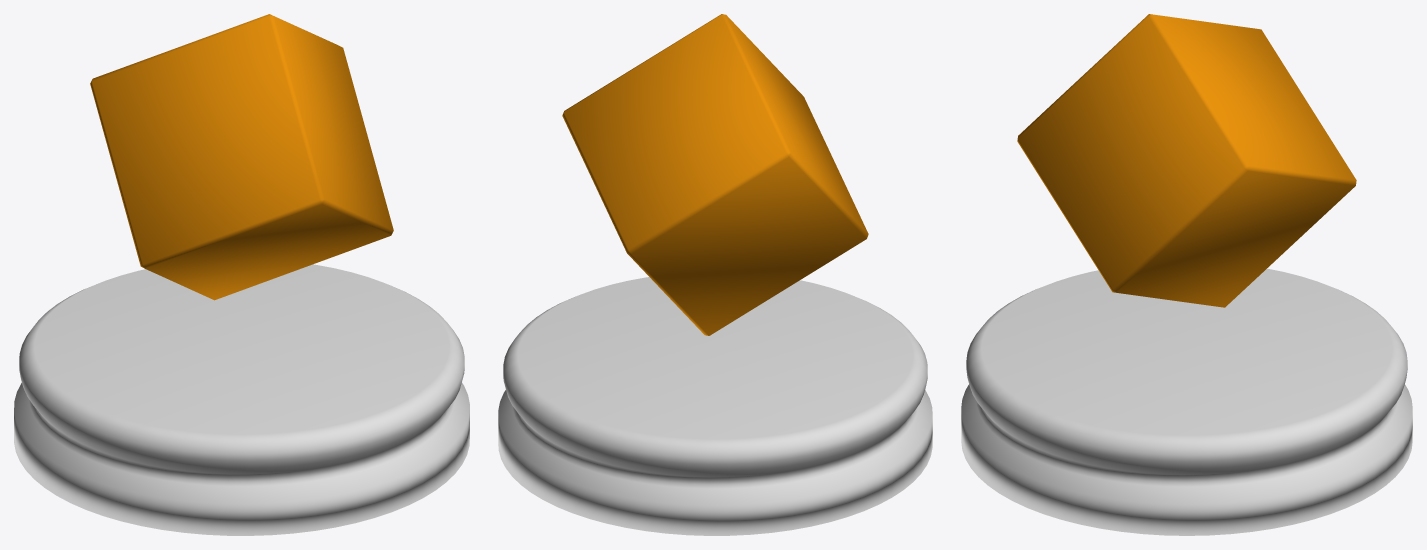
File: CubeModel.dae
3 views of the same model, side by side, from view 1: azimuth 30°, elevation 25°; view 2: azimuth 150°, elevation 25°; view 3: azimuth 270°, elevation 25° (orthographic). The views are drawn at different scales.
Parts seen in each view (by area): view 1: Cylinder, Cube; view 2: Cylinder, Cube; view 3: Cylinder, Cube.
Part boxes in pixels (x1,y1,x2,y2): Cylinder: [14, 264, 469, 535]; Cube: [90, 14, 393, 300]; Cylinder: [498, 277, 932, 535]; Cube: [562, 14, 868, 335]; Cylinder: [961, 268, 1412, 535]; Cube: [1017, 14, 1356, 307].
Size of the model in its own units: 2 by 2 by 2.11.
